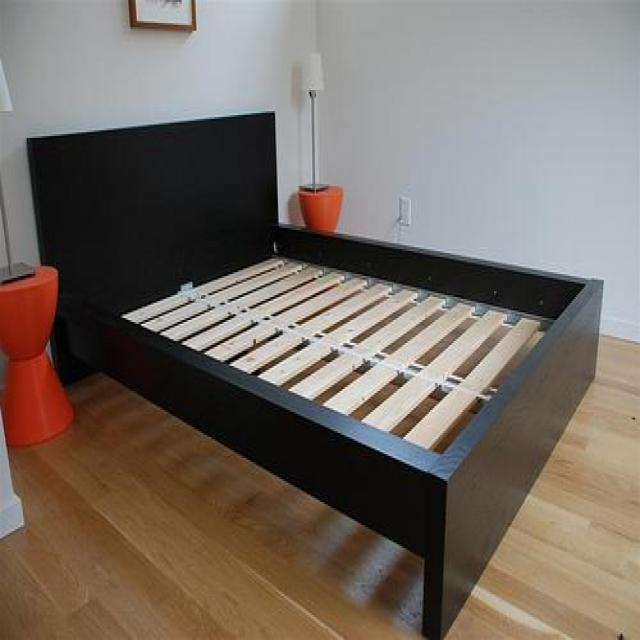bed: (24, 108, 607, 640)
